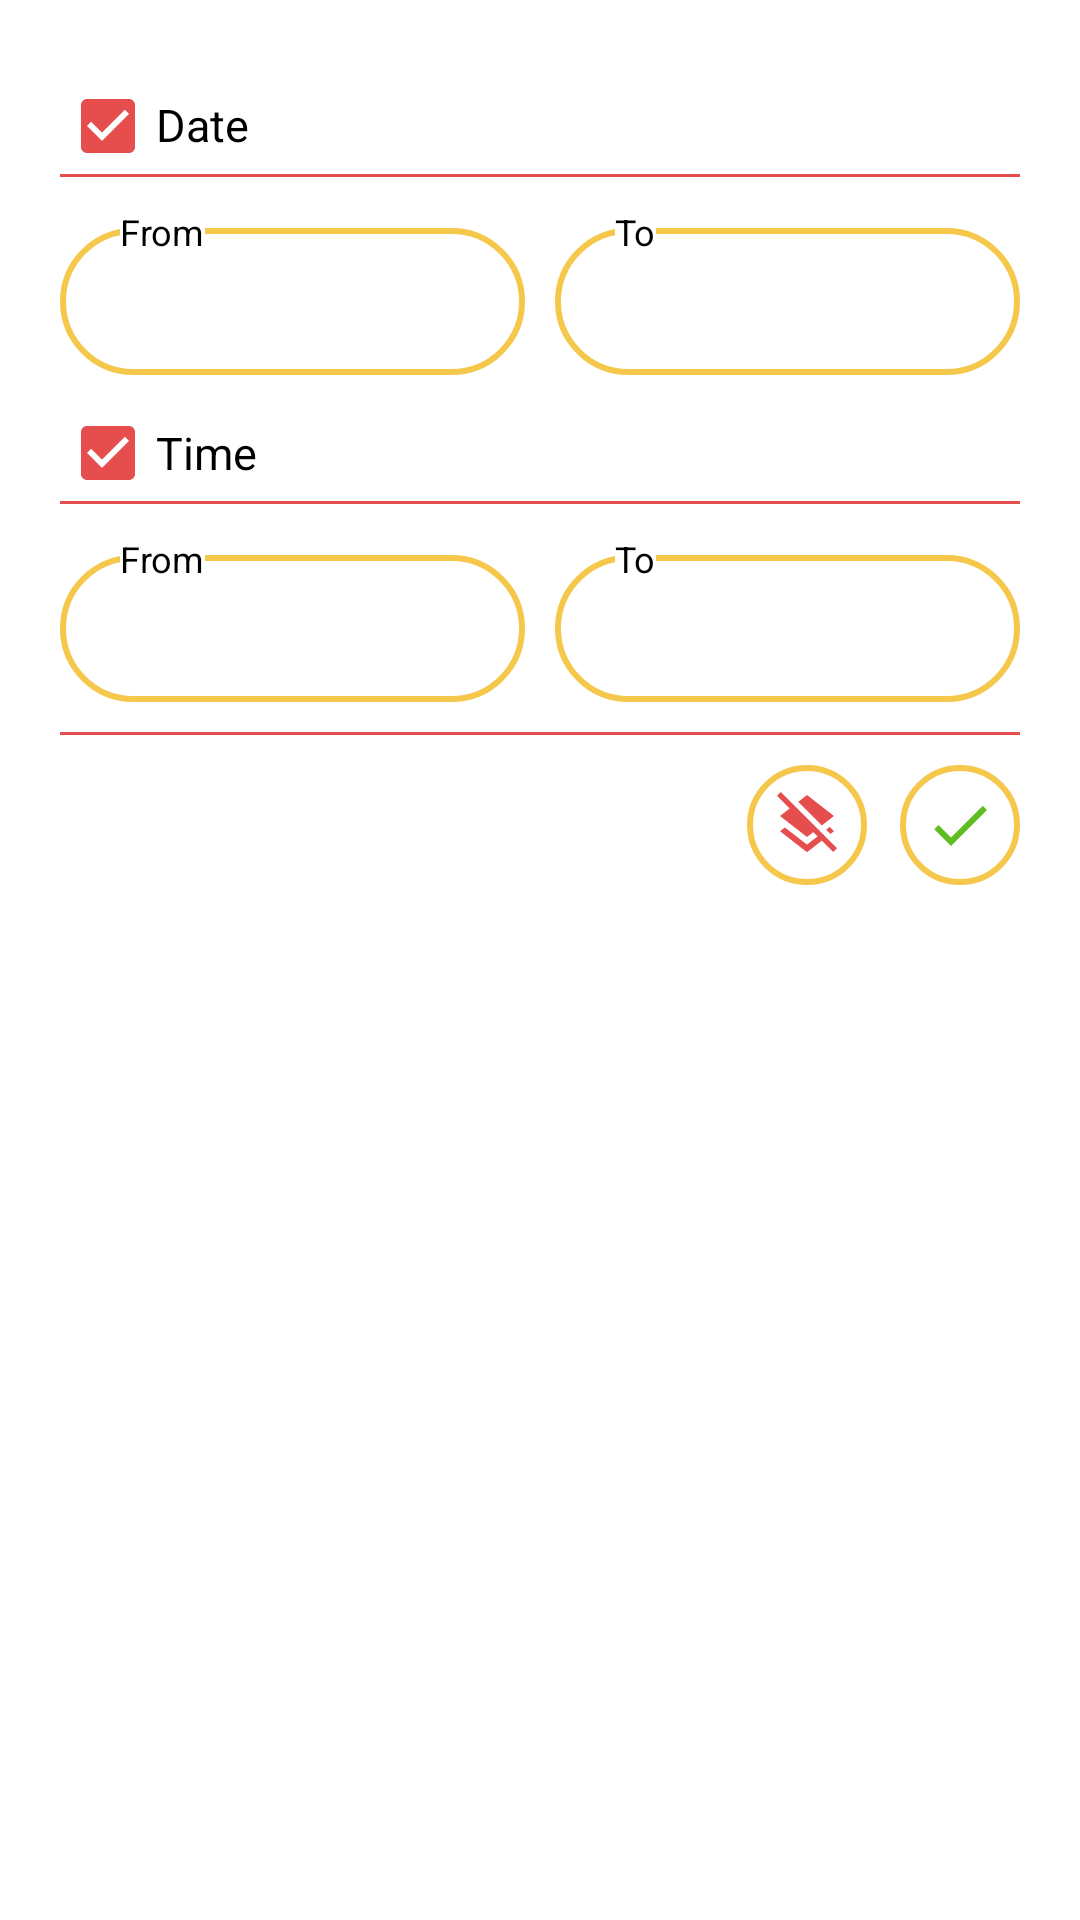

Point at icon controls on the screen. Image size 1080x1920, points as point (x, y).
done: point (960, 825)
maps layers clear: point (807, 825)
